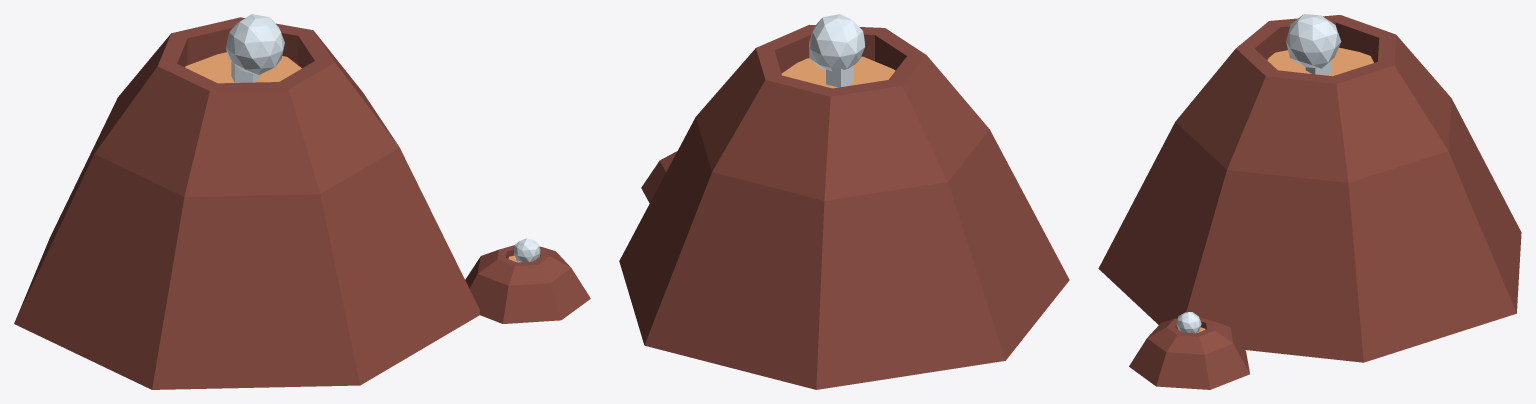
File: volcanic-g1.glb
3 views of the same model, side by side, from view 1: azimuth 30°, elevation 25°; view 2: azimuth 150°, elevation 25°; view 3: azimuth 270°, elevation 25° (orthographic). The views are drawn at different scales.
Parts seen in each view (by area): view 1: volcanic-g1; view 2: volcanic-g1; view 3: volcanic-g1.
Part boxes in pixels (x1=…): volcanic-g1: x1=14, y1=14, x2=590, y2=389; volcanic-g1: x1=619, y1=14, x2=1069, y2=389; volcanic-g1: x1=1098, y1=14, x2=1521, y2=389.
Size of the model in its own units: 2.13 by 1.22 by 1.82.
